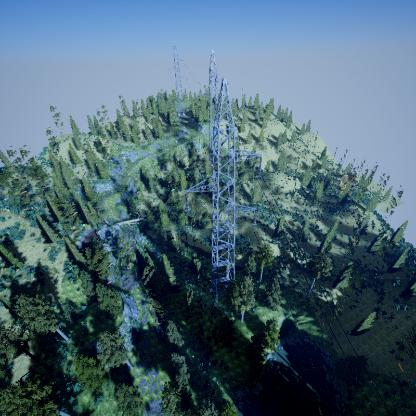tower: (181, 77, 268, 306)
